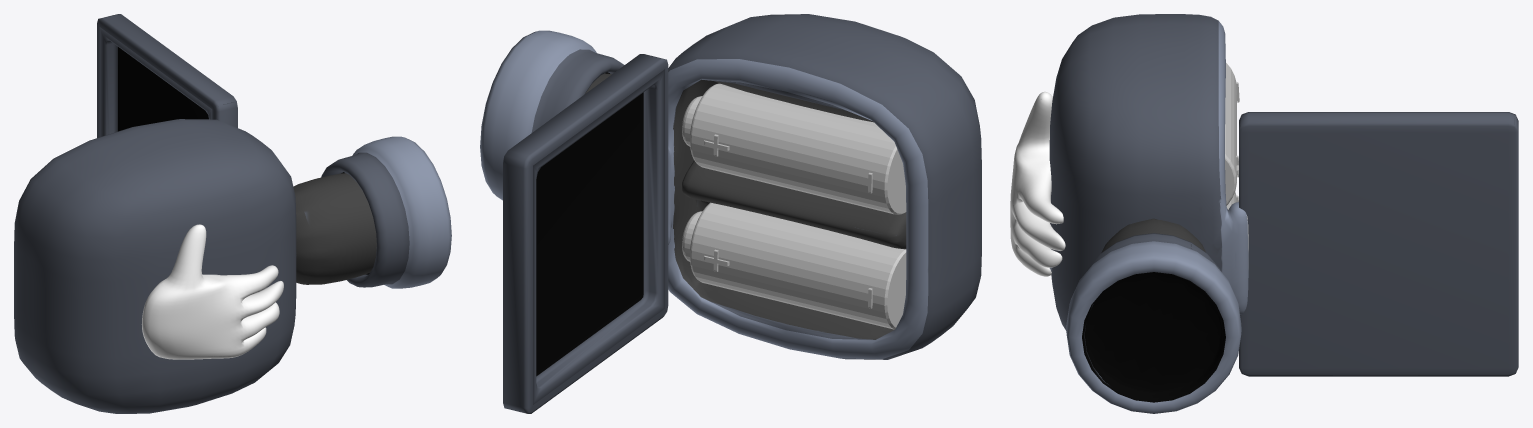
File: CameraVRJAM 1.fbx
The picture shows the model from 3 angles, left to right: view 1: azimuth 30°, elevation 25°; view 2: azimuth 150°, elevation 25°; view 3: azimuth 270°, elevation 25°; orthographic projection. The views are drawn at different scales.
Parts seen in each view (by area): view 1: Cam, Lens, Screen; view 2: Cam, Screen, Batteri, Batteri.001, Lens; view 3: Screen, Cam, Lens, Batteri.
Part boxes in pixels (box(x1,y1,x2,y2)): Cam: box(14, 119, 376, 413); Lens: box(321, 136, 451, 288); Screen: box(97, 14, 237, 137); Cam: box(585, 14, 981, 359); Screen: box(503, 54, 668, 413); Batteri: box(682, 83, 906, 214); Batteri.001: box(682, 202, 906, 329); Lens: box(480, 30, 624, 200); Screen: box(1239, 112, 1518, 376); Cam: box(1010, 14, 1248, 330); Lens: box(1066, 233, 1241, 413); Batteri: box(1225, 63, 1239, 205).
Size of the model in its own units: 40.67 by 25.56 by 40.85.
